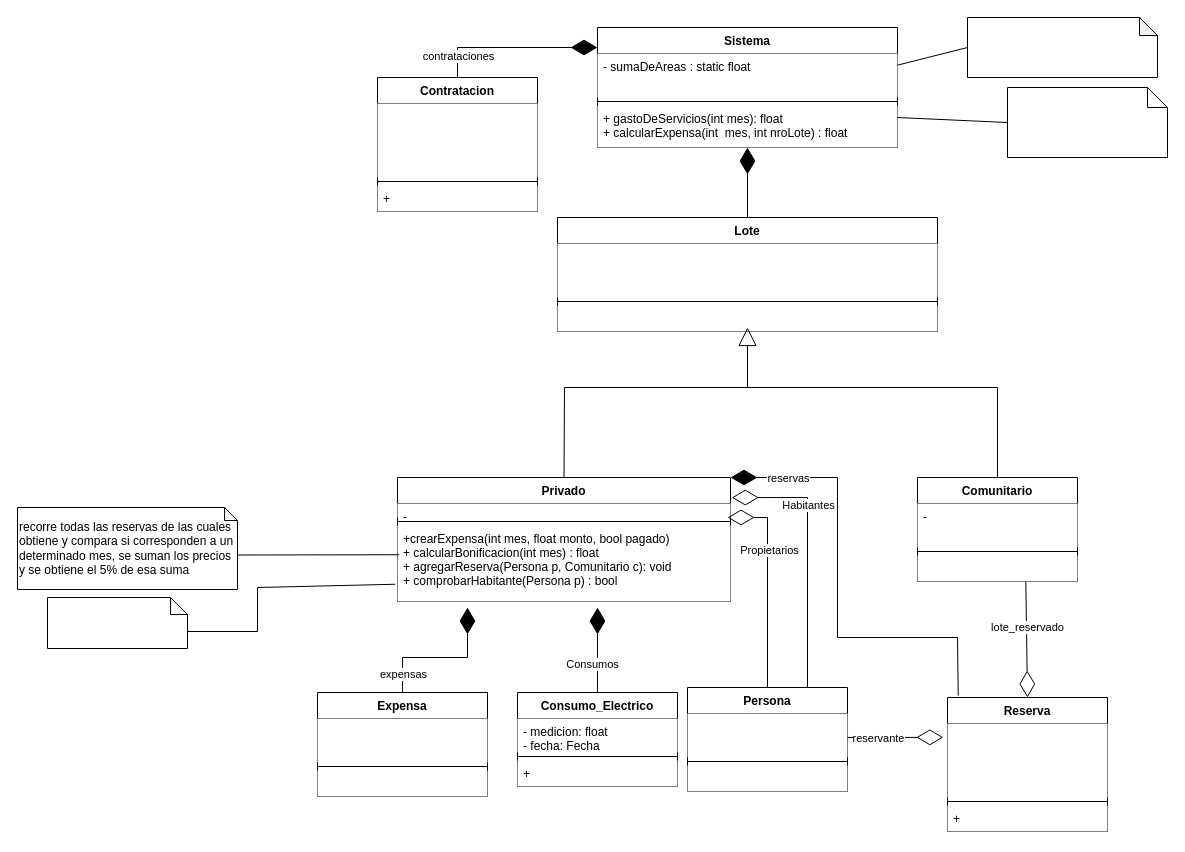
The diagram is 1185 pixels wide and 852 high, and some of its shapes have lost their labels. Each missing label, with the centre of its shape:
+crearExpensa(int mes, float monto, bool pagado): (747,318)
- fecha : float - horaInicio : int - horaFin: int - precio: float: (1027,760)
- mes: int - monto: float - pagado: bool: (402,740)
- NLote : int - area: float - sumaDeAreas : static float: (747,270)
- nombre : string - DNI : int: (767,735)
- tipo_servicio: TipoServicio - empresa: string - fecha : Fecha - costo : float: (457,140)
se comprueba si una persona pertenece a el lote: (117,622)
se le suma a la variable 'sumaDeAreas' cada vez que se crea y agrega un lote: (1062,47)
suma todas las contrataciones del barrio en un determinado mes: (1087,122)
